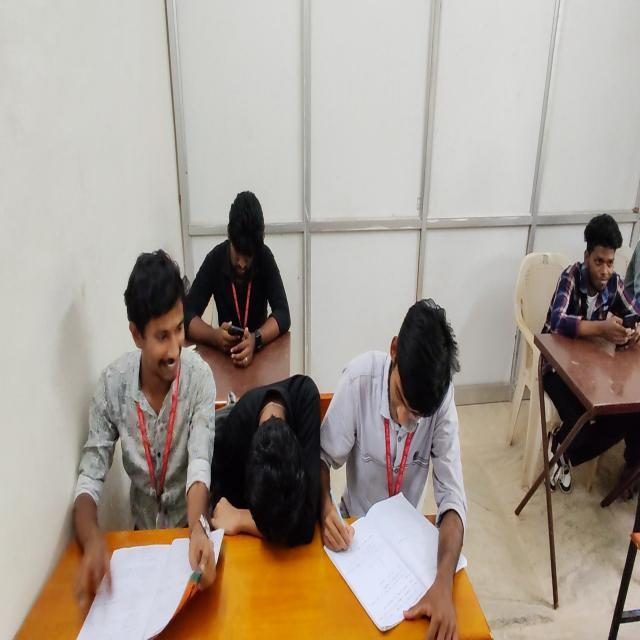sleeping: (196, 366, 332, 568)
turning: (74, 245, 219, 640)
using_mobile: (184, 162, 294, 362), (537, 187, 640, 358)
writing: (323, 275, 480, 638)
